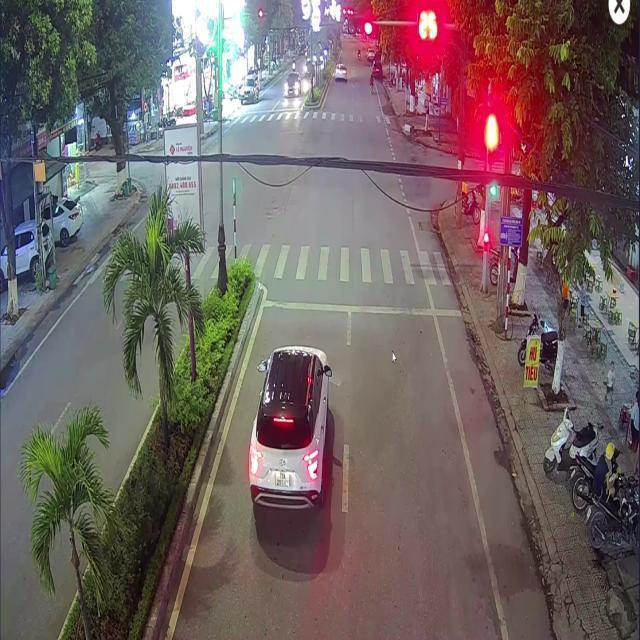car: (248, 345, 330, 507), (334, 63, 346, 80), (371, 63, 381, 77)
red_light: (347, 17, 372, 35), (487, 127, 494, 163), (483, 230, 487, 251)
stop_line: (263, 299, 461, 315)
